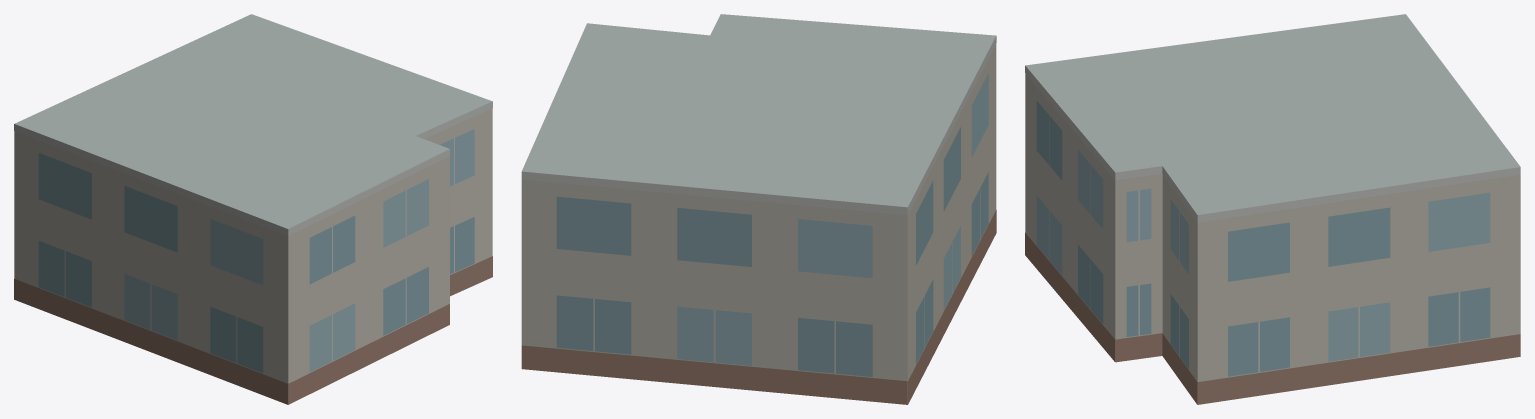
File: survey-upis-32604974.glb
3 views of the same model, side by side, from view 1: azimuth 30°, elevation 25°; view 2: azimuth 150°, elevation 25°; view 3: azimuth 270°, elevation 25° (orthographic). The views are drawn at different scales.
Visible parts, largest first — view 1: survey-upis-32604974.tmp; view 2: survey-upis-32604974.tmp; view 3: survey-upis-32604974.tmp.
Part boxes in pixels (bbox=[...]): survey-upis-32604974.tmp: bbox=[14, 14, 492, 404]; survey-upis-32604974.tmp: bbox=[521, 14, 996, 404]; survey-upis-32604974.tmp: bbox=[1025, 14, 1520, 404].
Size of the model in its own units: 13.88 by 6.1 by 14.45.
